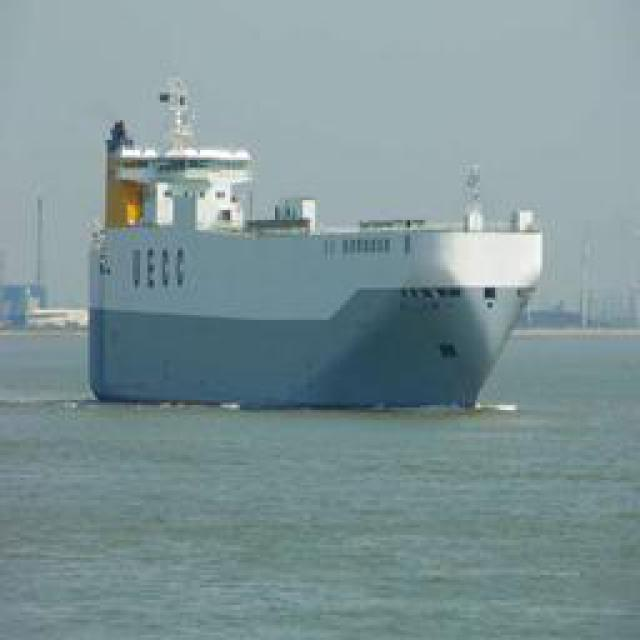Ship: (92, 63, 545, 418)
